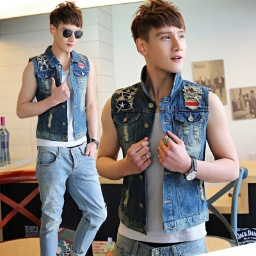face: (129, 3, 189, 75), (46, 4, 86, 51)
